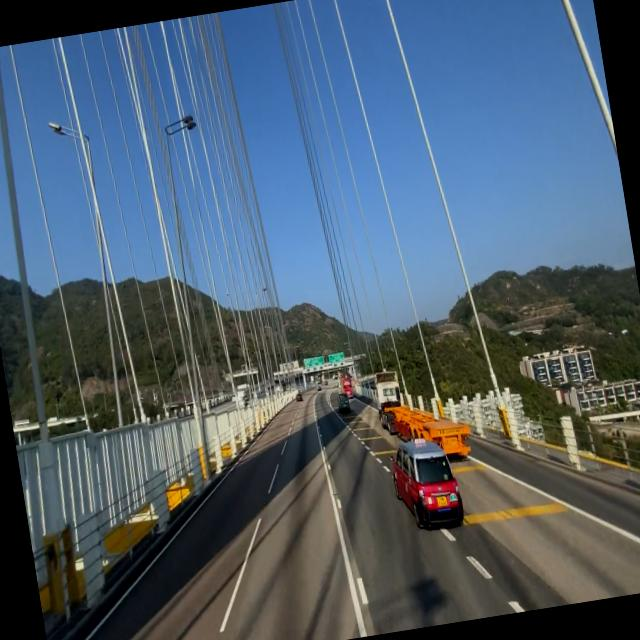Vehicle: (368, 358, 474, 470), (388, 426, 468, 544)
